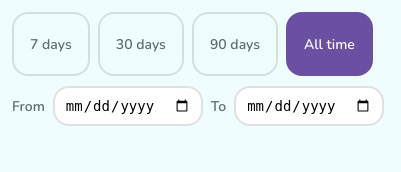
Test: DateRangeFilter — custom range › recovers after fixing an invalid range
In the date field labelled "From": (128, 106) [53,86,203,126], type "2026-07-10"
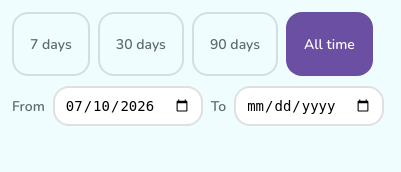
In the date field labelled "To": (309, 106) [234,86,384,126], type "2026-07-01"
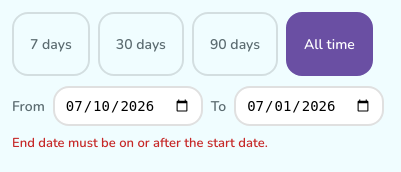
Expected: the message "End date must be on or after the start date." is shown, [12,134,268,152]
In the date field labelled "To": (309, 106) [234,86,384,126], type "2026-07-20"
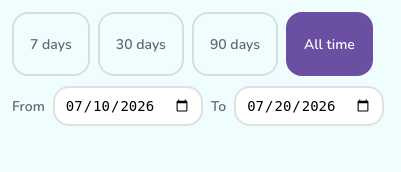
Expected: the message "End date must be on or after the start date." is gone
